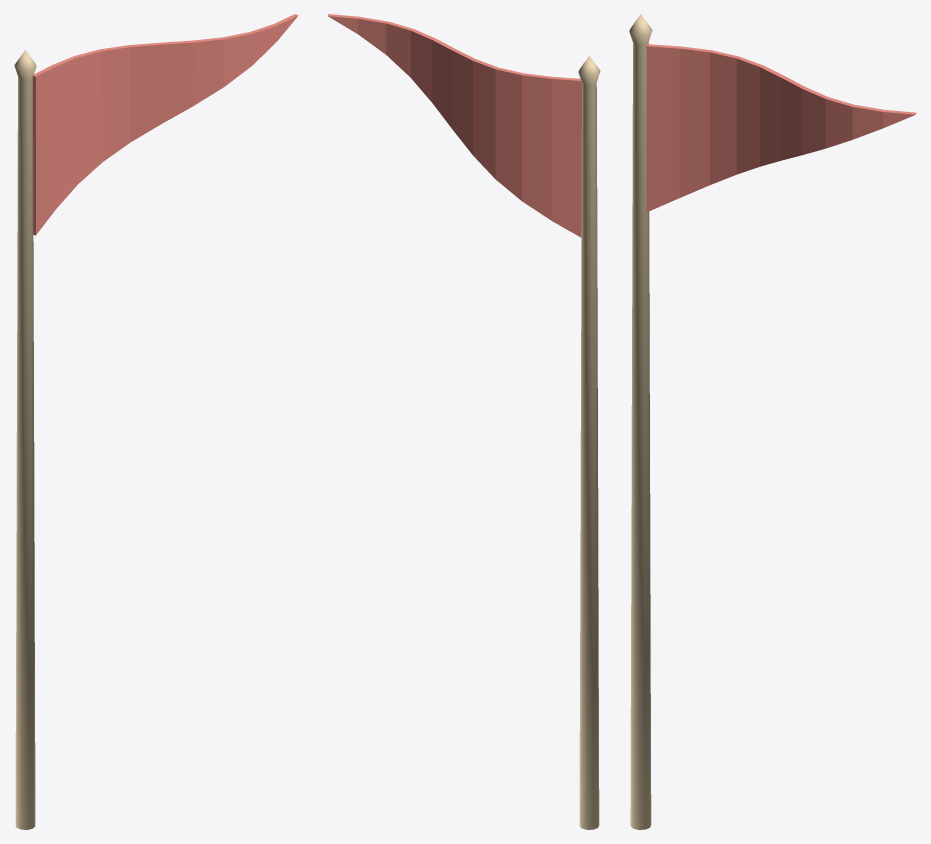
Rendered from beach_flag.glb.
The picture shows the model from 3 angles, left to right: view 1: azimuth 30°, elevation 25°; view 2: azimuth 150°, elevation 25°; view 3: azimuth 330°, elevation 25°; orthographic projection. The views are drawn at different scales.
Parts seen in each view (by area): view 1: beach_flag; view 2: beach_flag; view 3: beach_flag.
Boxes of the visible parts, x1,y1,x2,y2 form: beach_flag: (14, 14, 298, 829); beach_flag: (327, 14, 600, 829); beach_flag: (629, 14, 916, 829).
Size of the model in its own units: 0.1281 by 0.342 by 0.0178.
